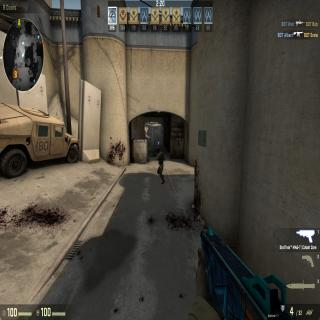CT-Body: (156, 146, 164, 184)
CT-Head: (156, 146, 160, 153)
